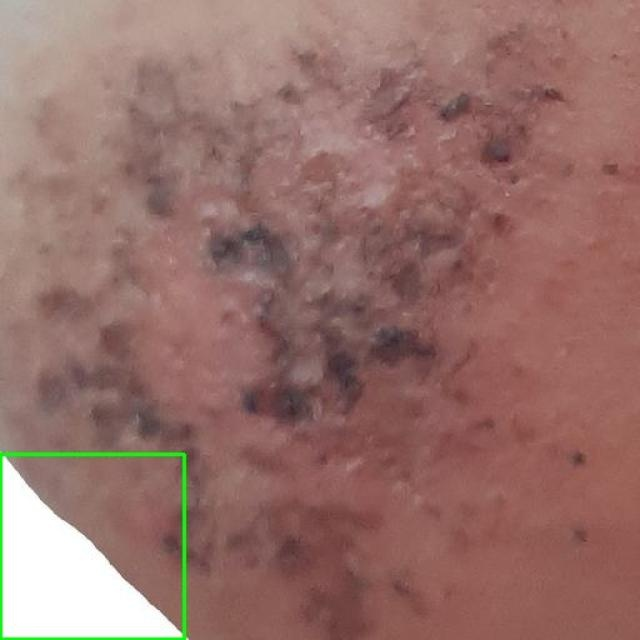Contact Dermatitis: (0, 454, 184, 639)
